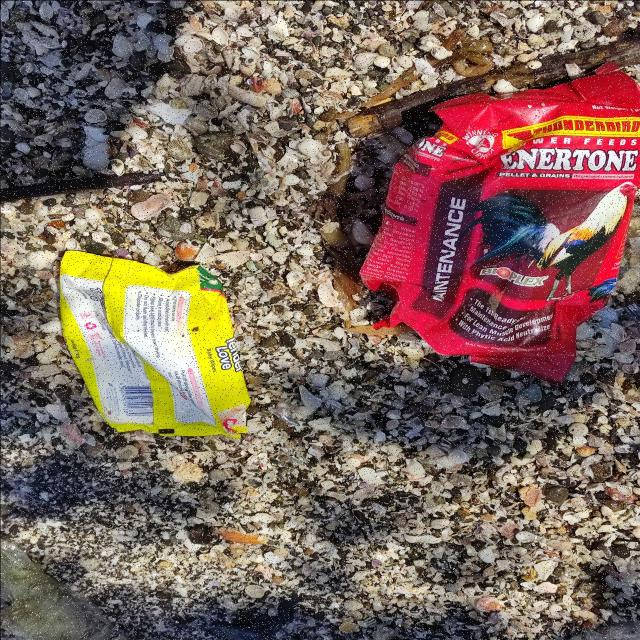plastic_waste: (356, 59, 640, 389), (56, 249, 252, 439)
